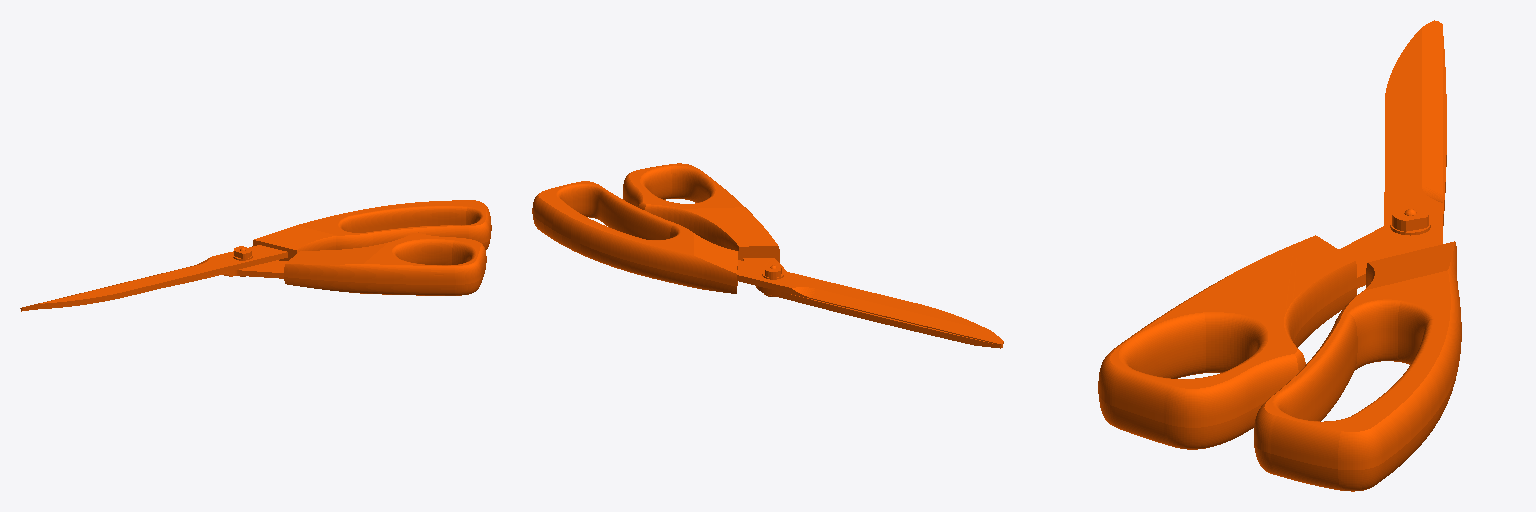
The robot description file, URDF, robot "Scissors_10902":
<?xml version="1.0" ?>
<robot name="Scissors_10902">
   <material name="obj_color">
      <color rgba="1.0 0.423529411765 0.0392156862745 1.0"/>
   </material>
   <link name="top">
      <inertial>
         <origin rpy="0.0001048577887268596 0.000218347994140603 0.0003129704570995422" xyz="0.02888135502274512 -0.007199876053531764 3.090073632372819e-06"/>
         <mass value="0.1798580454509831"/>
         <inertia ixx="0.0001141556629493788" ixy="3.11245856157717e-05" ixz="2.262837565617899e-07" iyy="0.0002090503832368842" iyz="-5.933282631805066e-08" izz="0.0003129701937807418"/>
      </inertial>
      <visual>
         <origin rpy="0 0 0" xyz="0 0 0"/>
         <geometry>
            <mesh filename="top_watertight_tiny.stl" scale="1 1 1"/>
         </geometry>
         <material name="obj_color"/>
      </visual>
      <collision>
         <origin rpy="0 0 0" xyz="0 0 0"/>
         <geometry>
            <mesh filename="top_watertight_tiny.obj" scale="1 1 1"/>
         </geometry>
      </collision>
   </link>
   <link name="bottom">
      <inertial>
         <origin rpy="2.337126092847187e-06 5.816363771743826e-05 5.976323079429796e-05" xyz="-0.0871042655993229 0.01926781419618102 0.000231498717974399"/>
         <mass value="0.03632473261255881"/>
         <inertia ixx="2.670181892082183e-06" ixy="4.296680518854677e-06" ixz="1.447558339486067e-07" iyy="5.783287511813923e-05" iyz="-6.653000204025001e-08" izz="5.976093759436197e-05"/>
      </inertial>
      <visual>
         <origin rpy="0 0 0" xyz="0 0 0"/>
         <geometry>
            <mesh filename="bottom_watertight_tiny.stl" scale="1 1 1"/>
         </geometry>
         <material name="obj_color"/>
      </visual>
      <collision>
         <origin rpy="0 0 0" xyz="0 0 0"/>
         <geometry>
            <mesh filename="bottom_watertight_tiny.obj" scale="1 1 1"/>
         </geometry>
      </collision>
   </link>
   <link name="world"/>
   <joint name="world_to_base" type="fixed">
      <origin xyz="0 0 0"/>
      <axis xyz="0 0 0"/>
      <parent link="world"/>
      <child link="bottom"/>
   </joint>
   <joint name="rotation" type="revolute">
      <origin xyz="0 0 0"/>
      <axis xyz="0 0 -1"/>
      <parent link="bottom"/>
      <child link="top"/>
      <dynamics damping="1.0" friction="1.0"/>
      <limit effort="0.1" velocity="0.1" lower="0" upper="0.001"/>
   </joint>
</robot>

--- Render facts (derived) ---
Views: 3 orthographic renders of the robot side by side, from view 1: azimuth 30°, elevation 25°; view 2: azimuth 150°, elevation 25°; view 3: azimuth 270°, elevation 25°.
Model Scissors_10902 with 3 links and 2 joints (1 revolute, 1 fixed), rooted at world, posed every joint at zero.
Visible links, largest first — view 1: top, bottom; view 2: top, bottom; view 3: top, bottom.
Boxes of the visible links, x1,y1,x2,y2 form: top: (252, 200, 491, 295); bottom: (20, 245, 287, 311); top: (532, 163, 779, 293); bottom: (737, 258, 1003, 348); top: (1098, 235, 1461, 491); bottom: (1339, 20, 1446, 288).
Bounding box of the posed robot: 0.2993 × 0.1041 × 0.0191 m (x, y, z).
2 mesh visuals loaded from 2 distinct referenced files (2 binary STL).